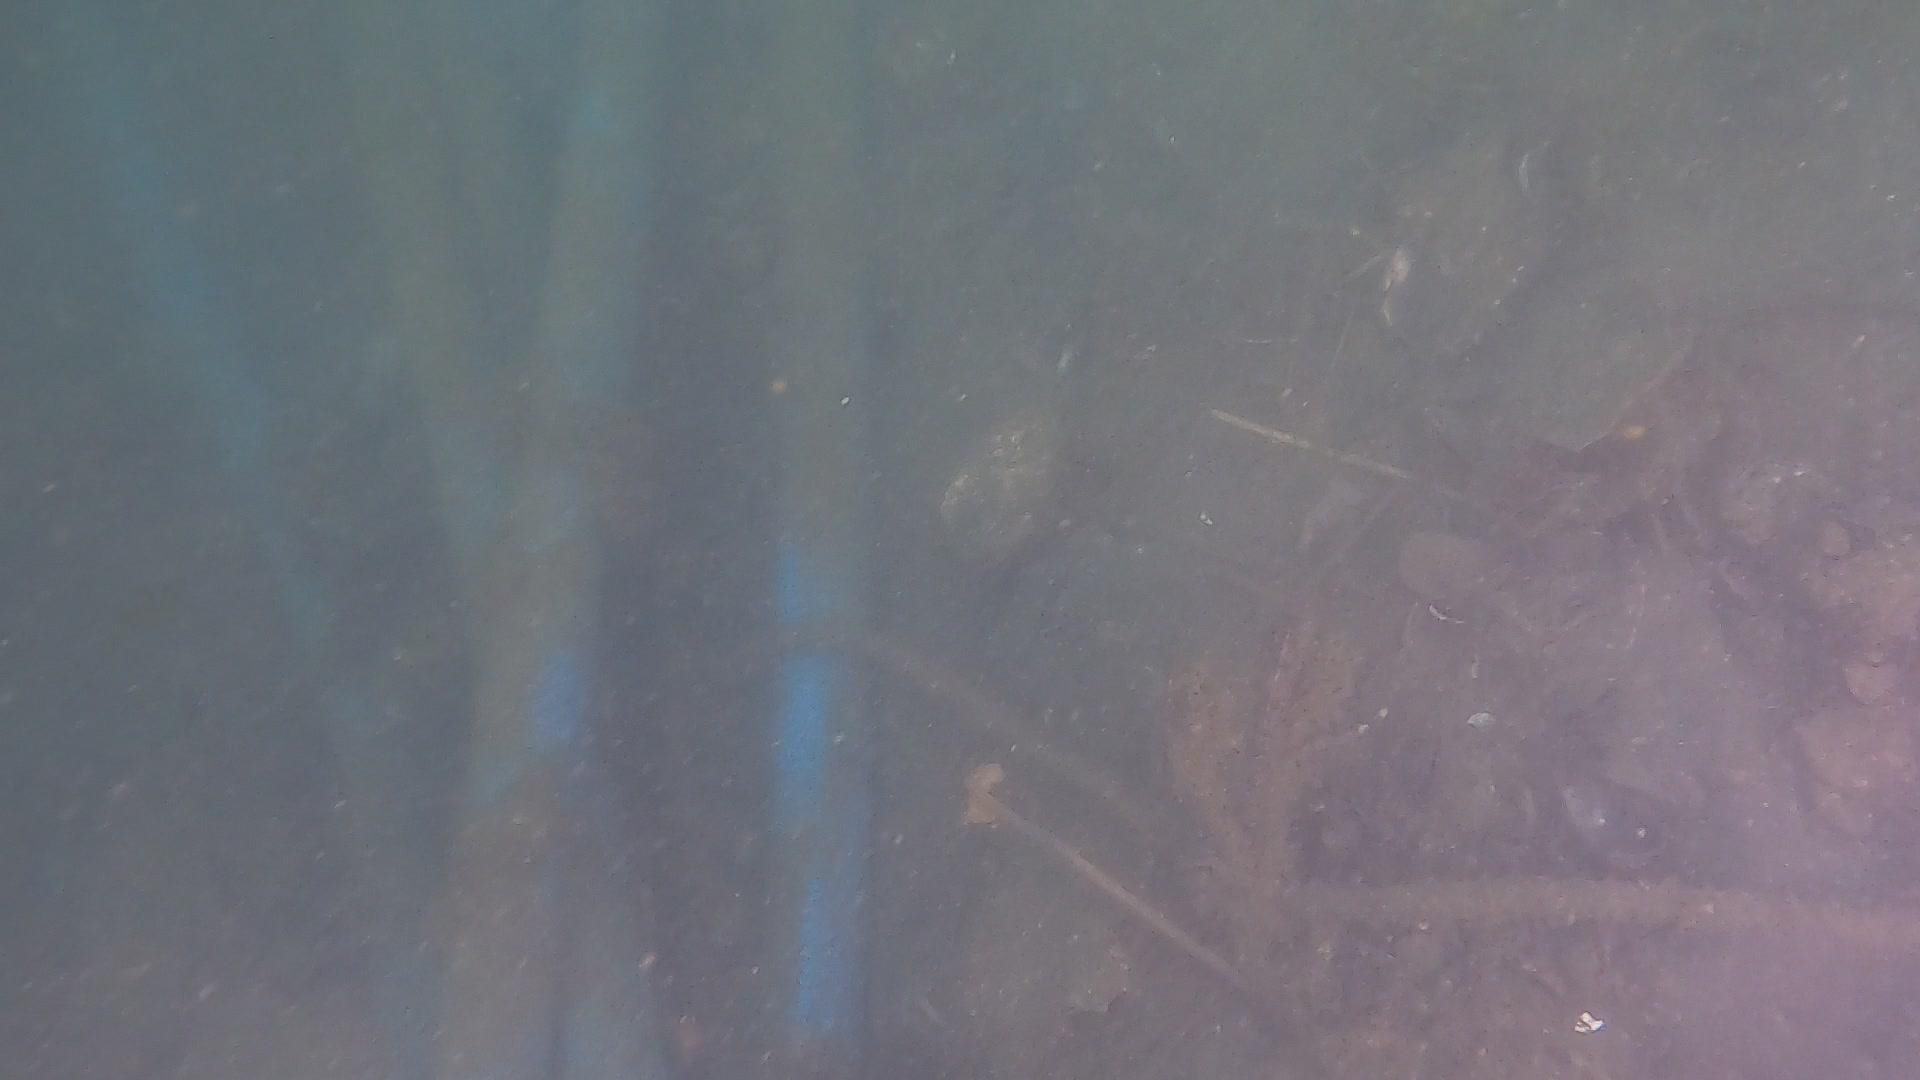rope: (746, 622, 1920, 951)
